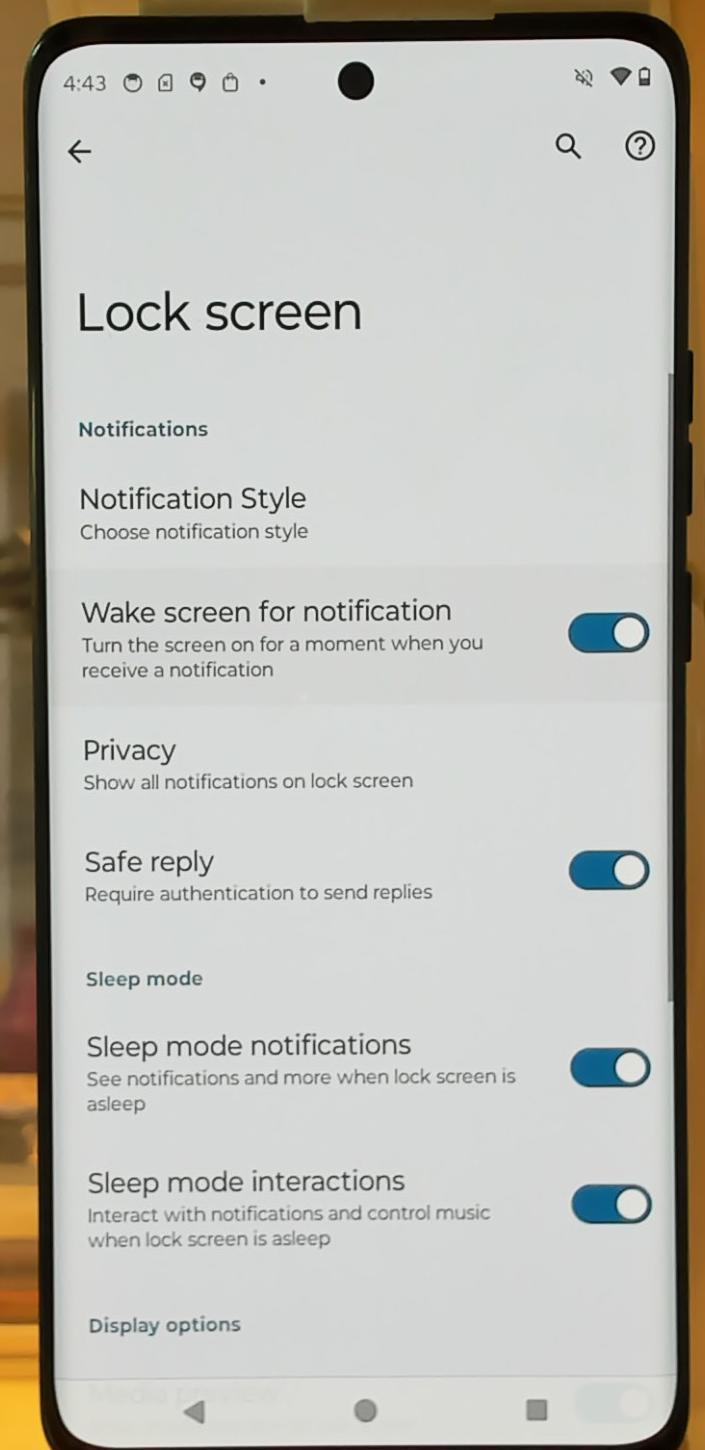Checkbox: (71, 590, 655, 691), (80, 1022, 659, 1120), (80, 1164, 663, 1259), (74, 831, 655, 913)
